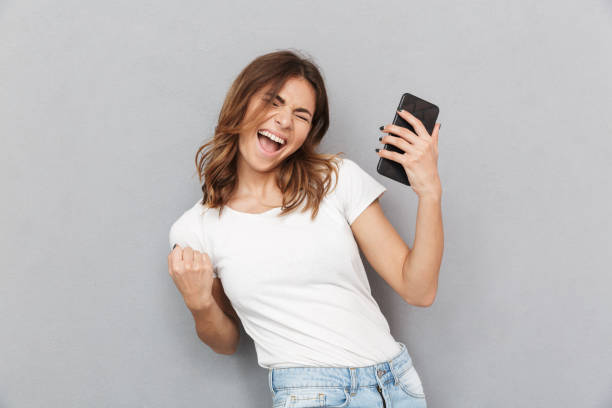without mask: (233, 69, 323, 178)
